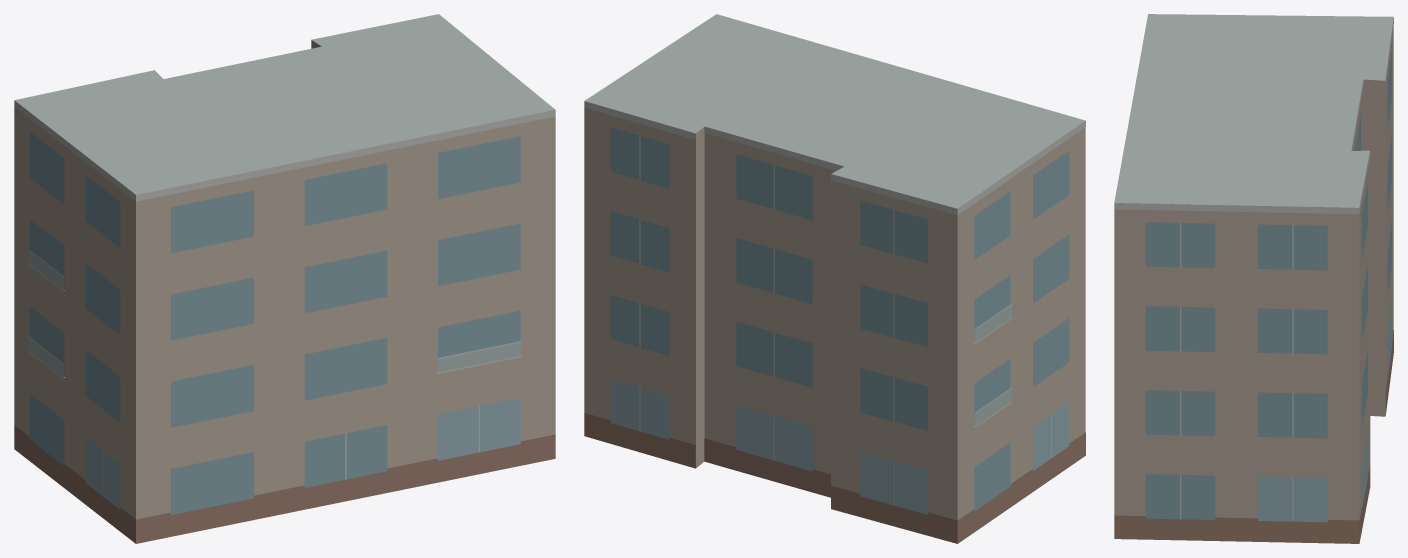
The model's file is survey-upis-32940603.glb.
3 views of the same model, side by side, from view 1: azimuth 30°, elevation 25°; view 2: azimuth 150°, elevation 25°; view 3: azimuth 270°, elevation 25° (orthographic). The views are drawn at different scales.
Visible parts, largest first — view 1: survey-upis-32940603.tmp; view 2: survey-upis-32940603.tmp; view 3: survey-upis-32940603.tmp.
Part boxes in pixels (x1,y1,x2,y2): survey-upis-32940603.tmp: (14, 14, 555, 543); survey-upis-32940603.tmp: (584, 14, 1085, 543); survey-upis-32940603.tmp: (1114, 14, 1393, 543).
Bounding box in the file's own units: 15.73 × 12.7 × 9.59.
